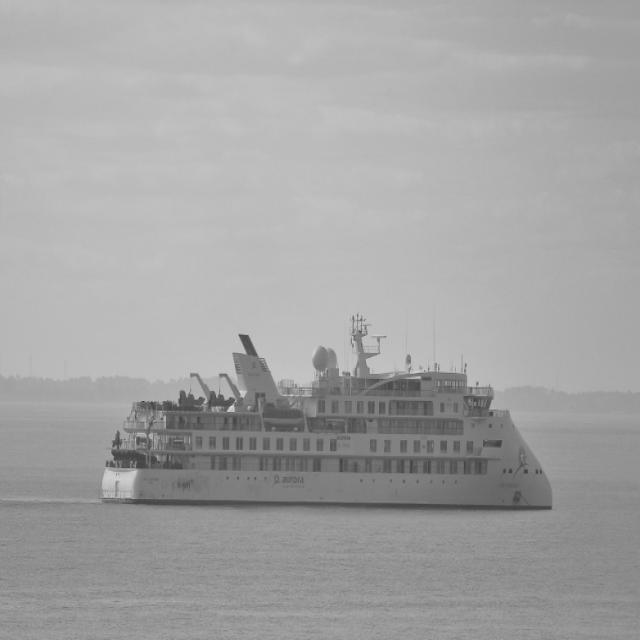cruises: (98, 309, 562, 514)
